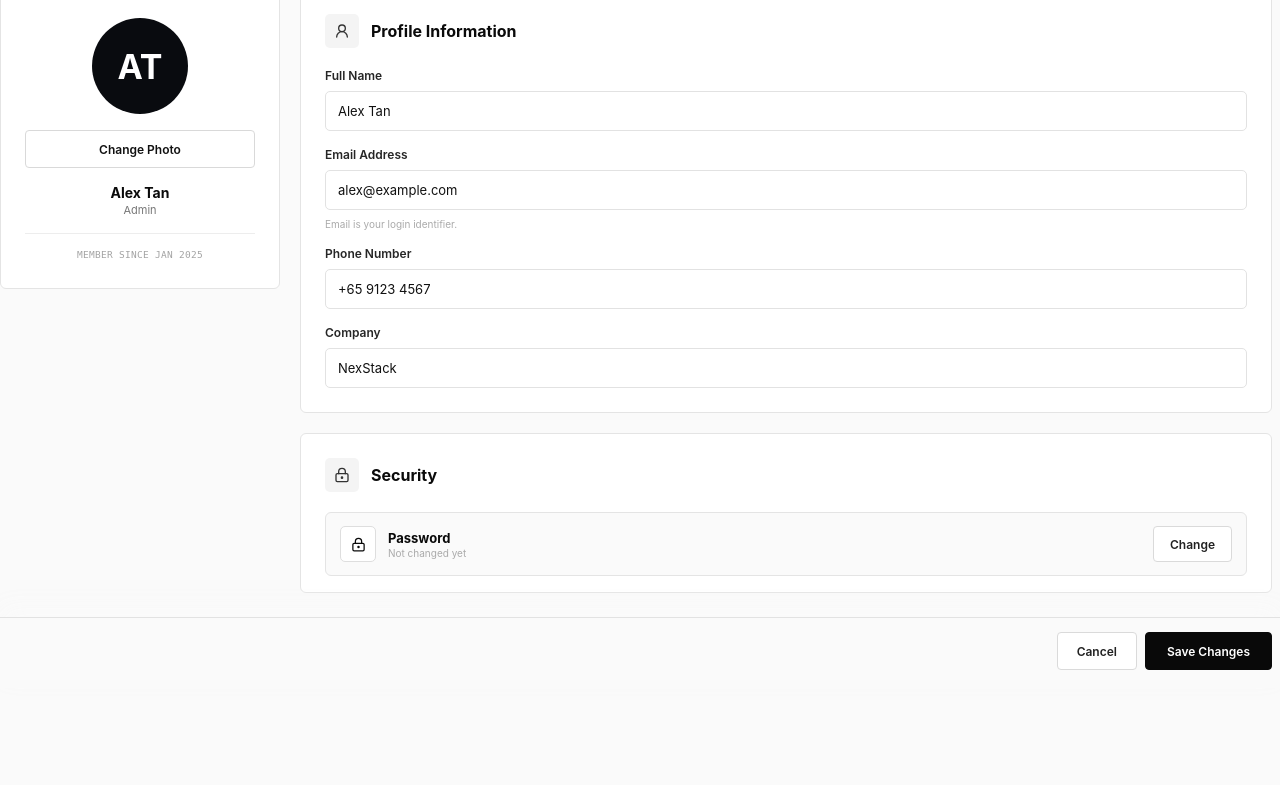
Test case: ProfileScreen › validates and changes the password
Expected: the field showing "Alex Tan" is shown, [325,91,1247,131]
Click the button "Change". click: [1192, 544]
box: [1153,526,1232,562]
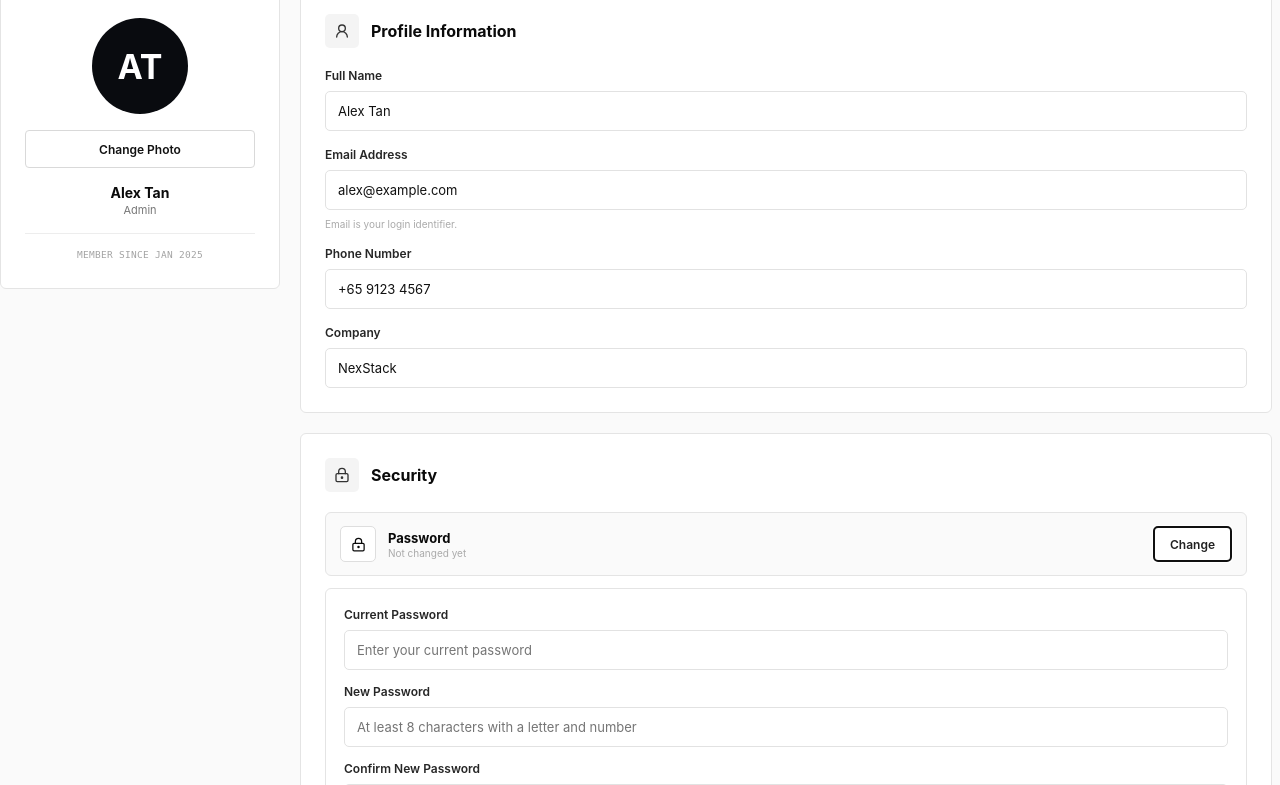
Type "oldpass123" into the password field labelled "Current Password". click: [786, 650]
box: [344,630,1228,670]
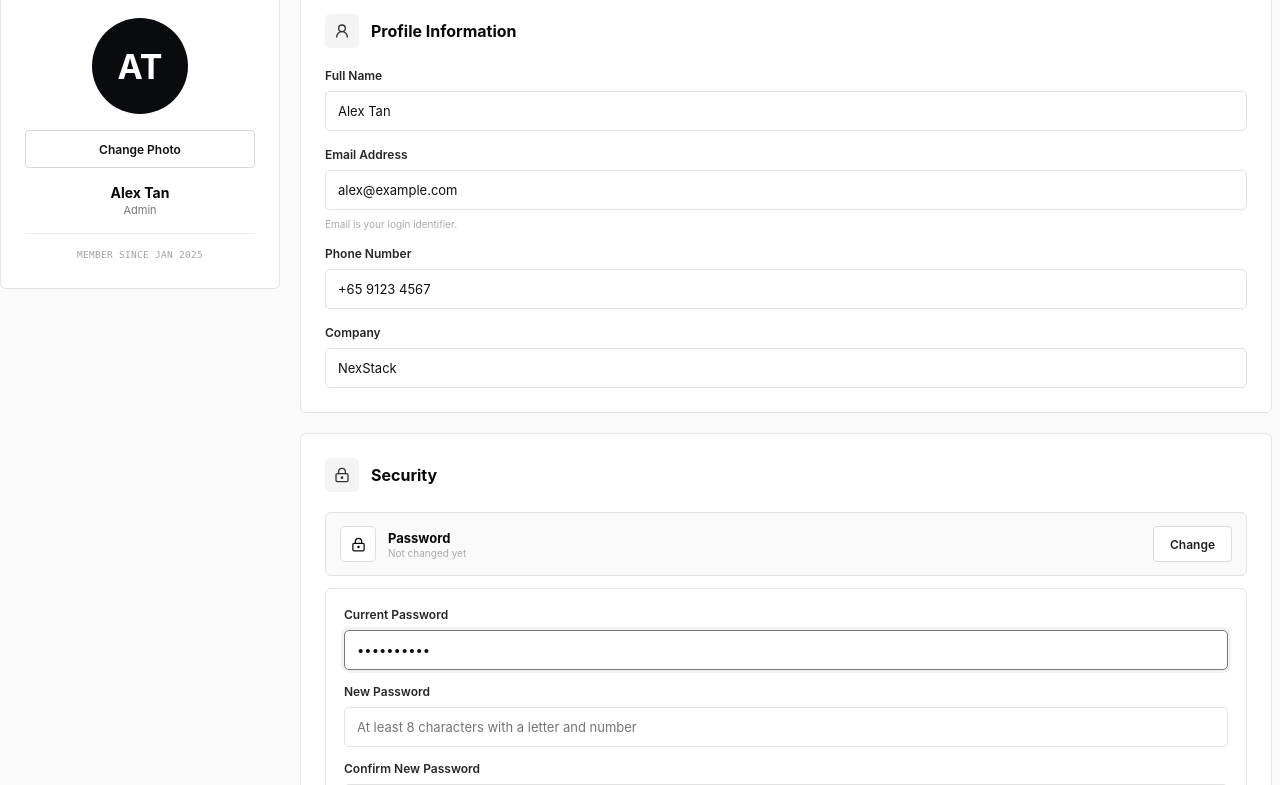
Type "newpass123" into the password field labelled "New Password". click: [786, 727]
box: [344,707,1228,747]
(page scrolled)
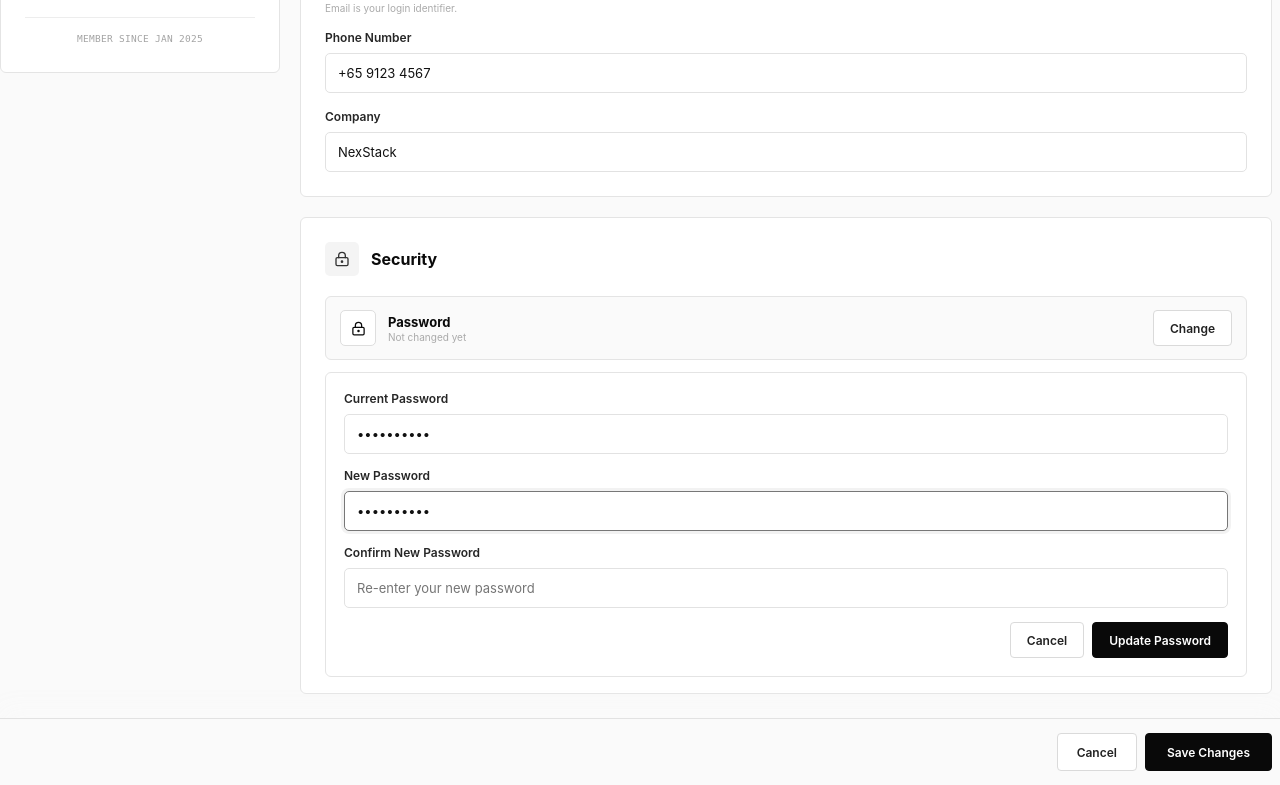
Type "newpass123" into the password field labelled "Confirm New Password". click: [786, 588]
box: [344,568,1228,608]
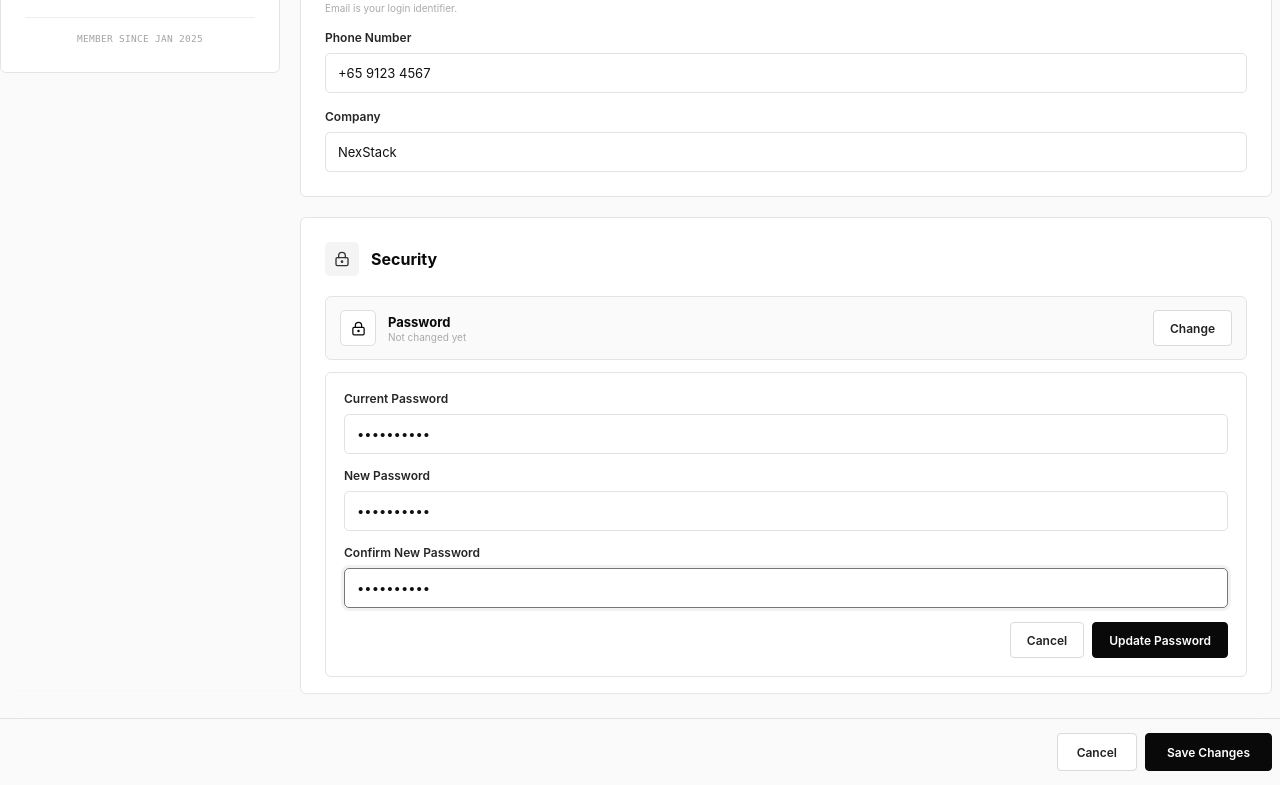
Click the button "Update Password". click: [1160, 640]
box: [1092,622,1228,658]
(page scrolled)
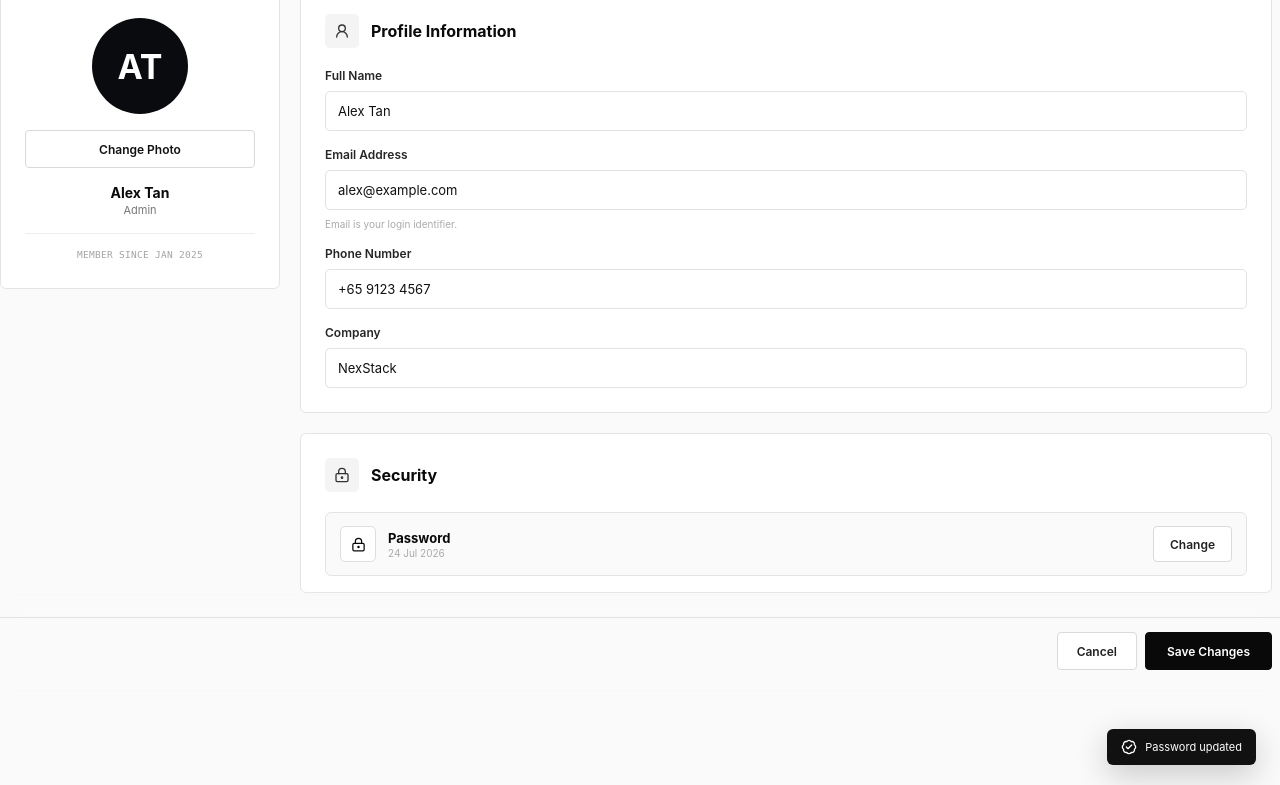
Expected: the message reads "Password updated", [1145,740,1242,754]
